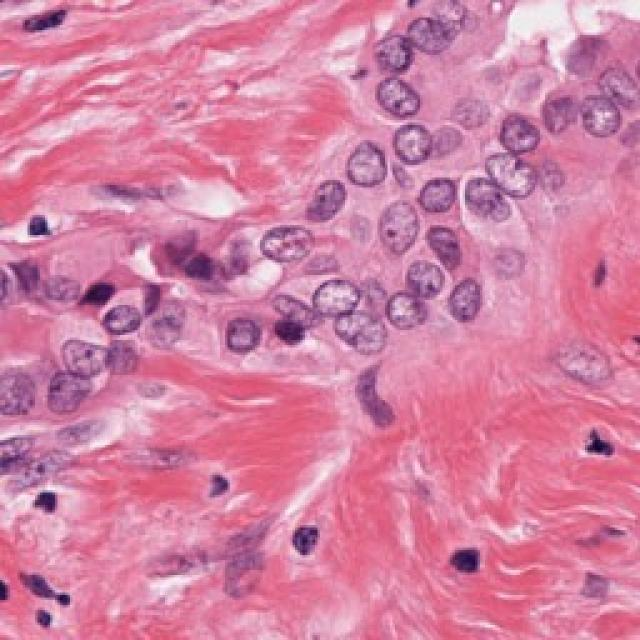abnormal: (206, 289, 294, 390), (468, 120, 539, 208), (364, 186, 433, 261), (331, 124, 391, 208), (257, 218, 327, 289), (306, 266, 370, 339), (405, 205, 465, 282), (572, 78, 638, 146), (58, 312, 123, 381), (307, 168, 368, 237), (408, 172, 476, 232), (364, 18, 420, 90), (383, 266, 431, 349), (530, 62, 588, 128), (383, 112, 441, 177), (446, 267, 491, 350), (154, 296, 197, 362), (105, 285, 147, 342), (370, 76, 426, 118)
